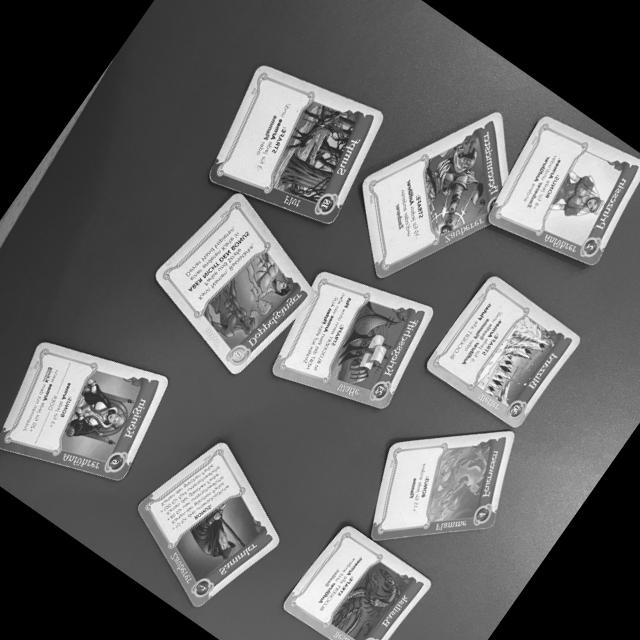Basilisk: (276, 521, 432, 640)
Blizzard: (425, 268, 585, 430)
Collector: (133, 433, 281, 611)
Doppelganger: (151, 189, 312, 375)
Fire Elemental: (368, 430, 513, 541)
Princess: (490, 115, 640, 266)
Queen: (0, 344, 171, 486)
Swamp: (204, 62, 387, 232)
Warlock Lord: (362, 105, 508, 284)
Warship: (268, 275, 436, 416)
